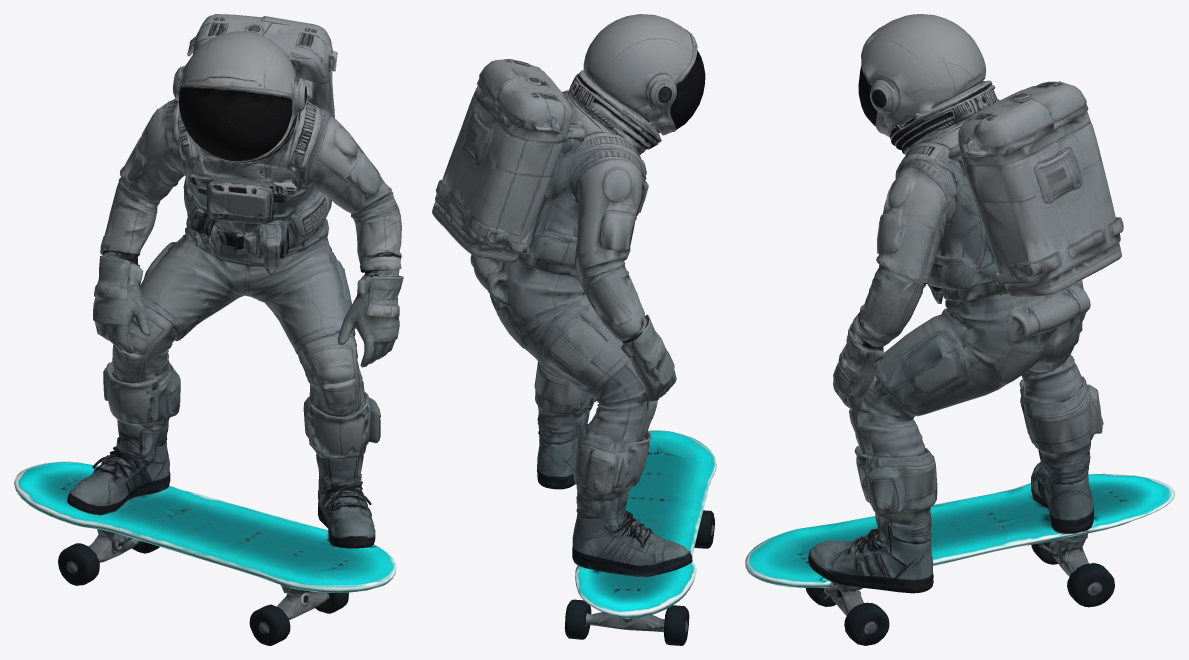
Rendered from skate_rider.glb.
3 renders of one model, left to right at view 1: azimuth 30°, elevation 25°; view 2: azimuth 150°, elevation 25°; view 3: azimuth 270°, elevation 25°, orthographic. The views are drawn at different scales.
Size of the model in its own units: 0.9748 by 1.9 by 1.25.
Materials: 1 (1 with a texture image).
